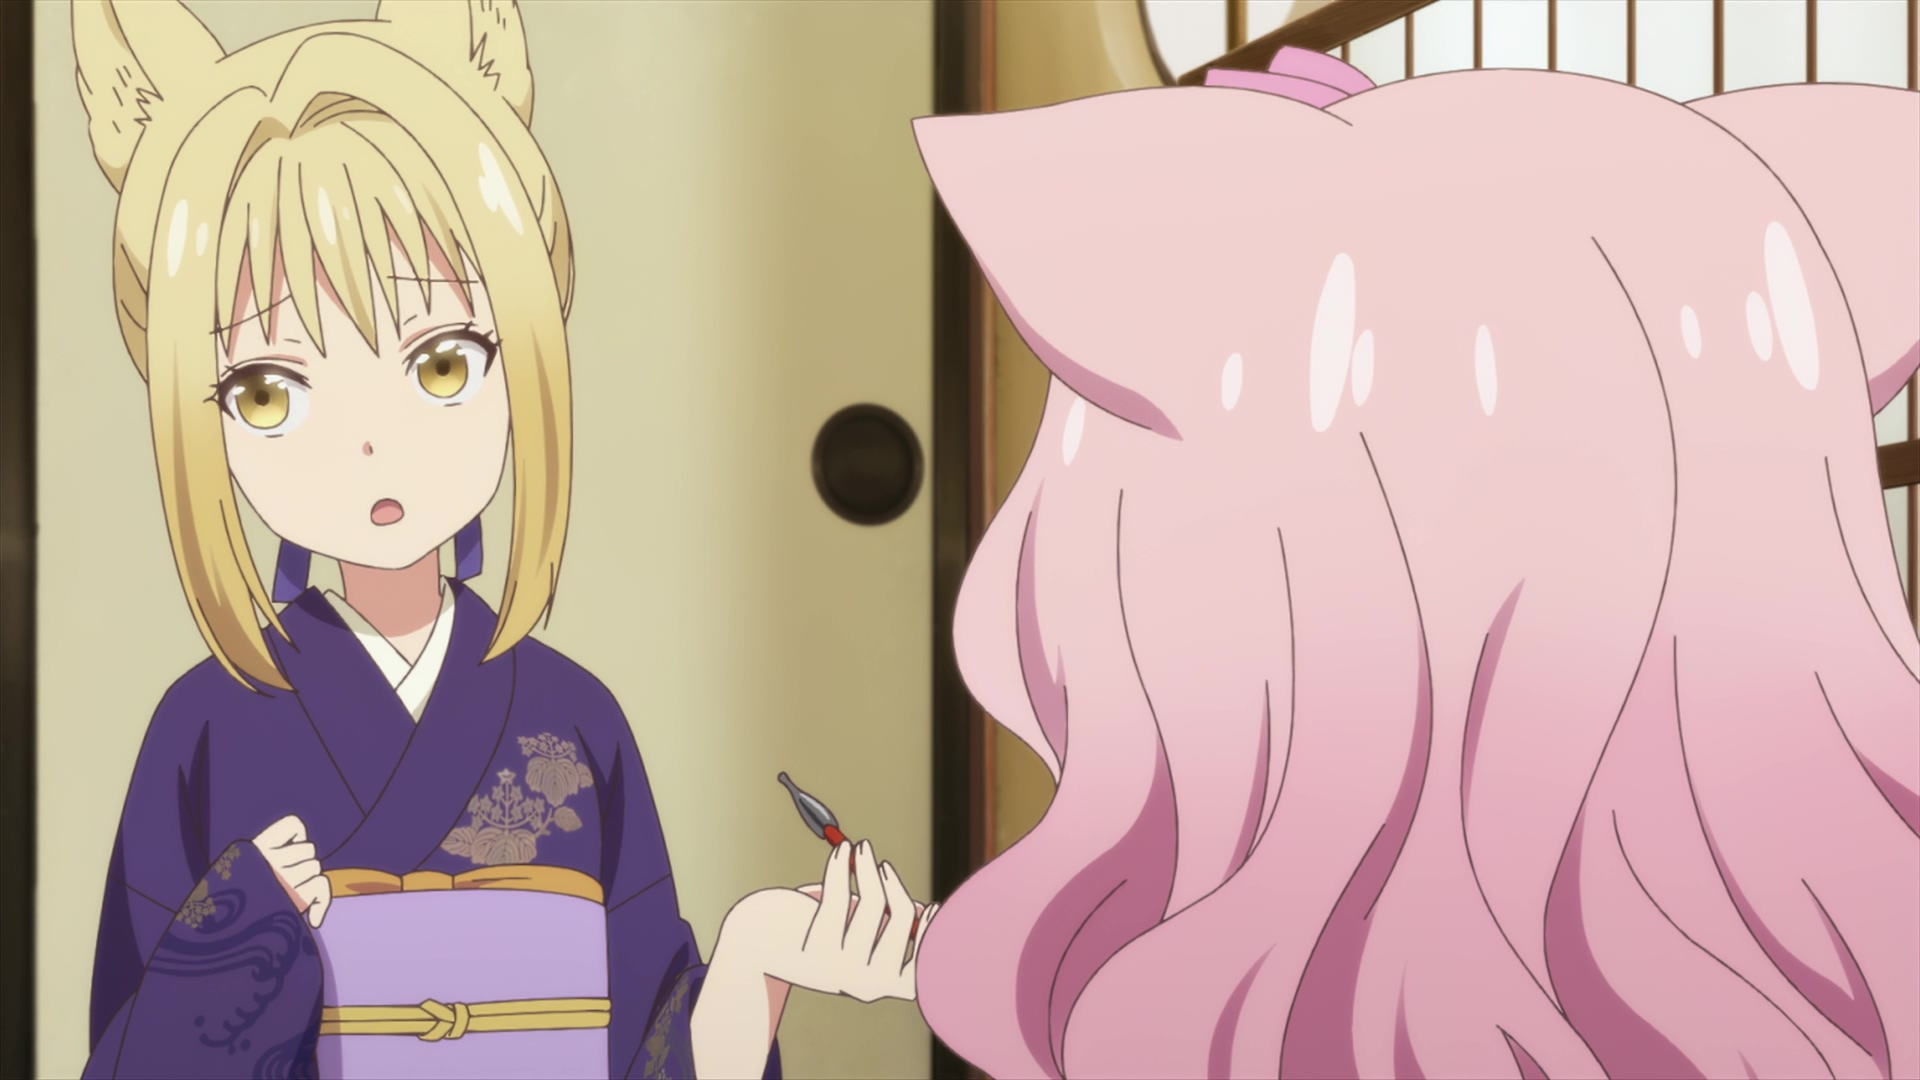桐: (71, 1, 938, 1080)
莲: (911, 45, 1920, 1080)
